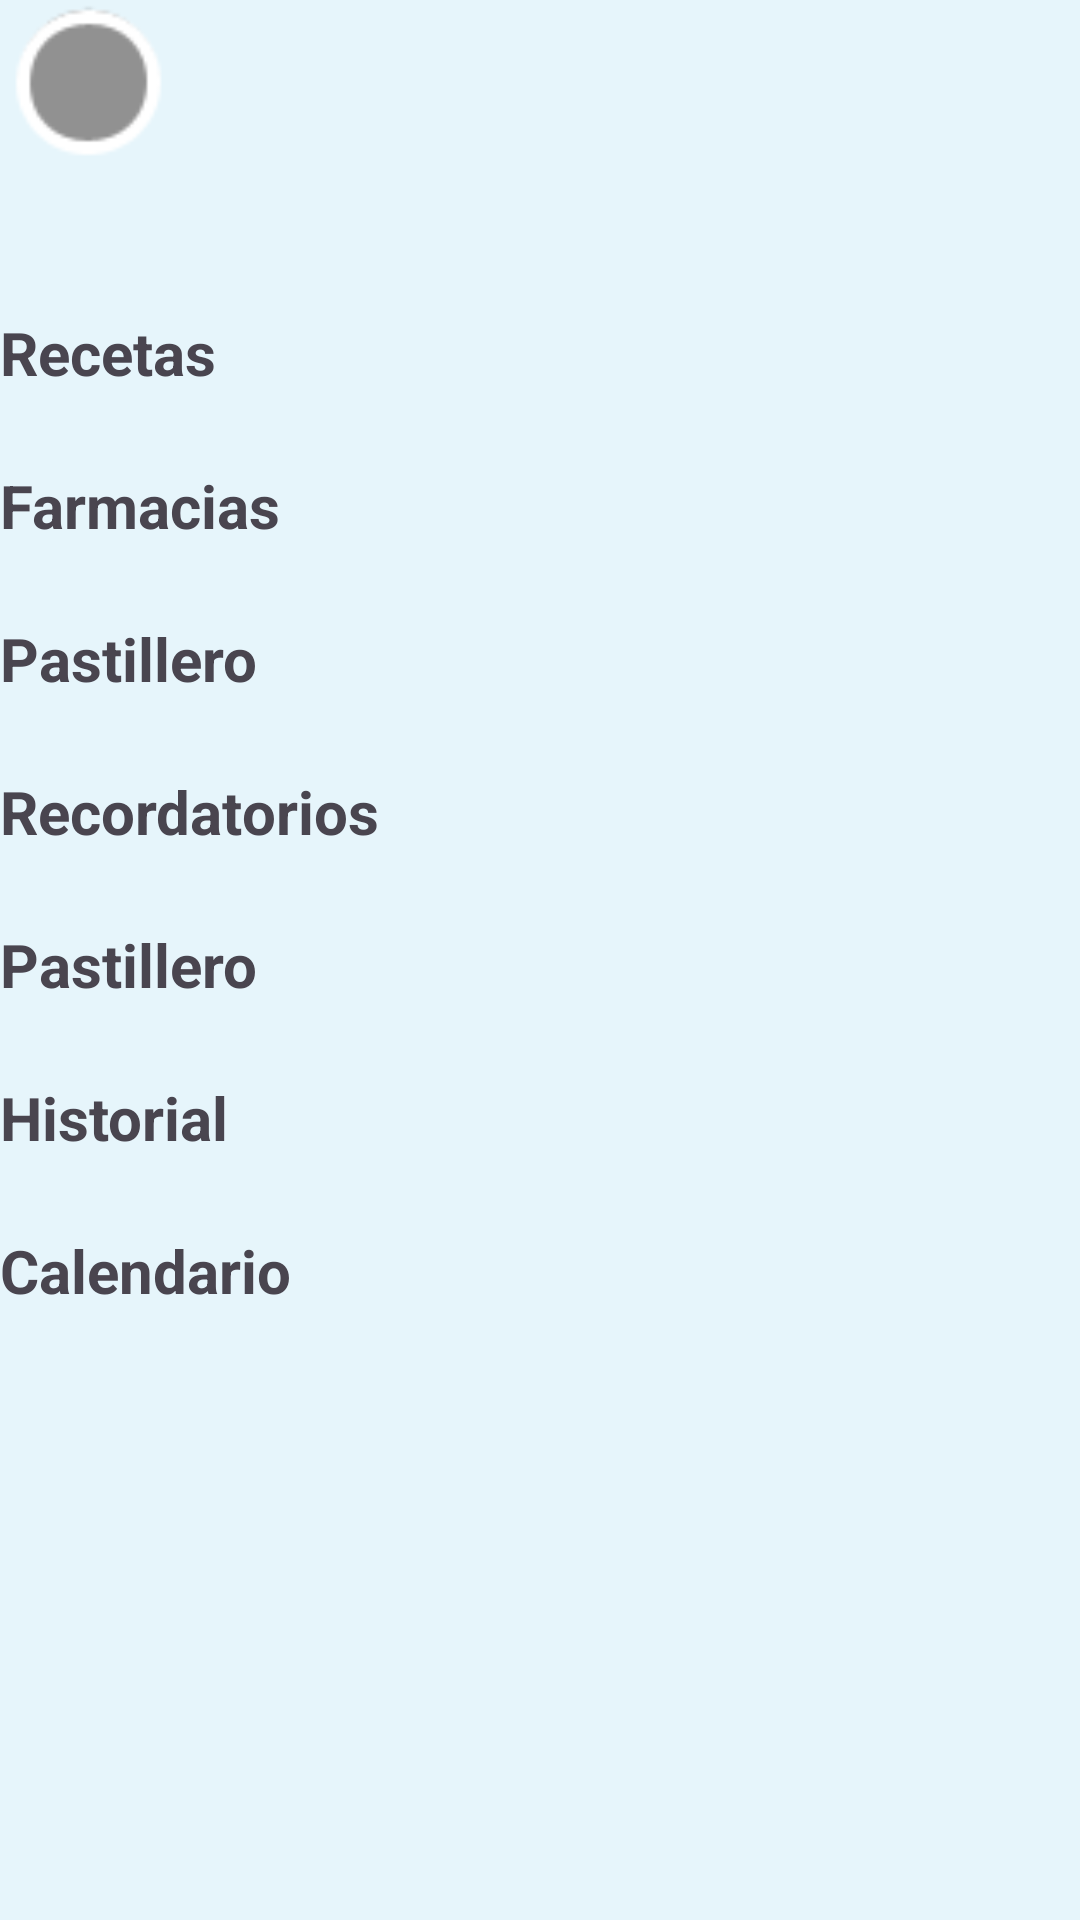

Icons on this 1080x1920 Android screen, each with its box as box=[x1, y1, x2, y2]:
presence invisible: box=[18, 11, 159, 153]
